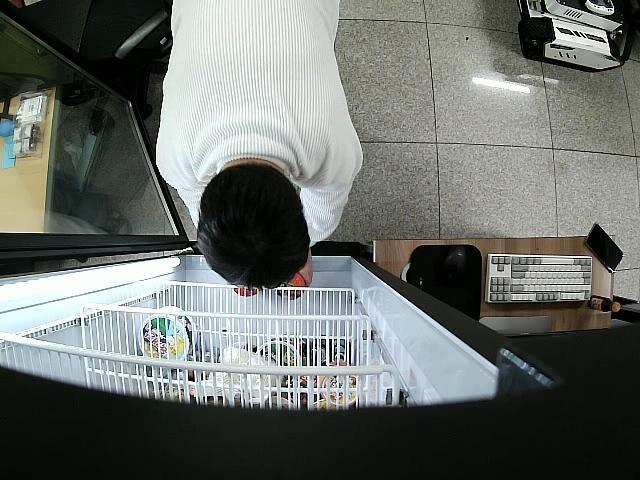02_shinRamen_S: (277, 274, 306, 300)
